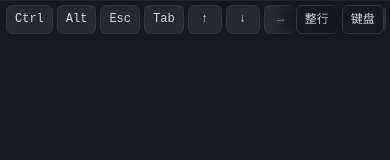
Test: buffered input › remembers the choice on this device
This screenshot has width=390, height=160.
Click the button "整行". click: [317, 20]
box: [296,5,338,34]
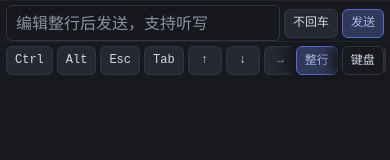
Expected: the field named "缓冲输入内容" is shown, [6,5,280,41]
